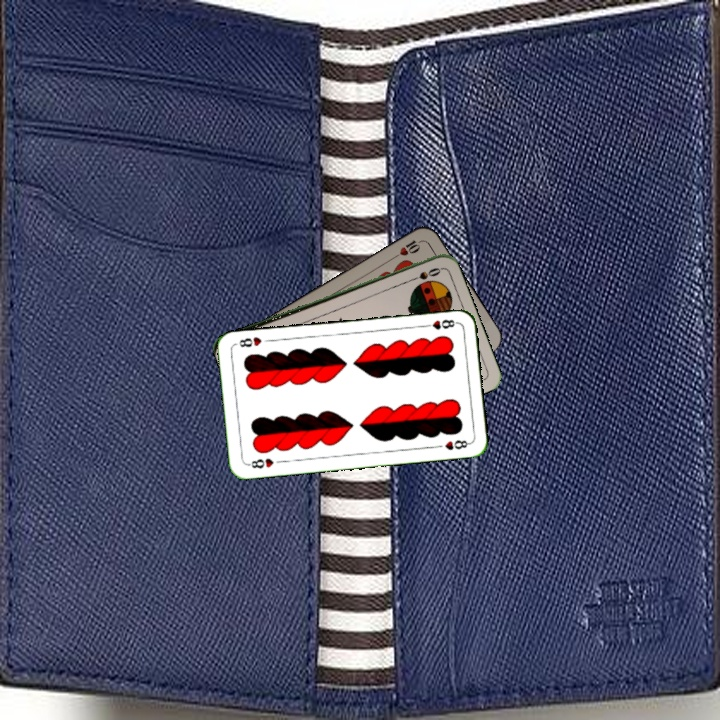H10: (388, 236, 425, 262)
H8: (419, 315, 460, 332), (243, 454, 276, 471)
SO: (404, 263, 443, 285)
